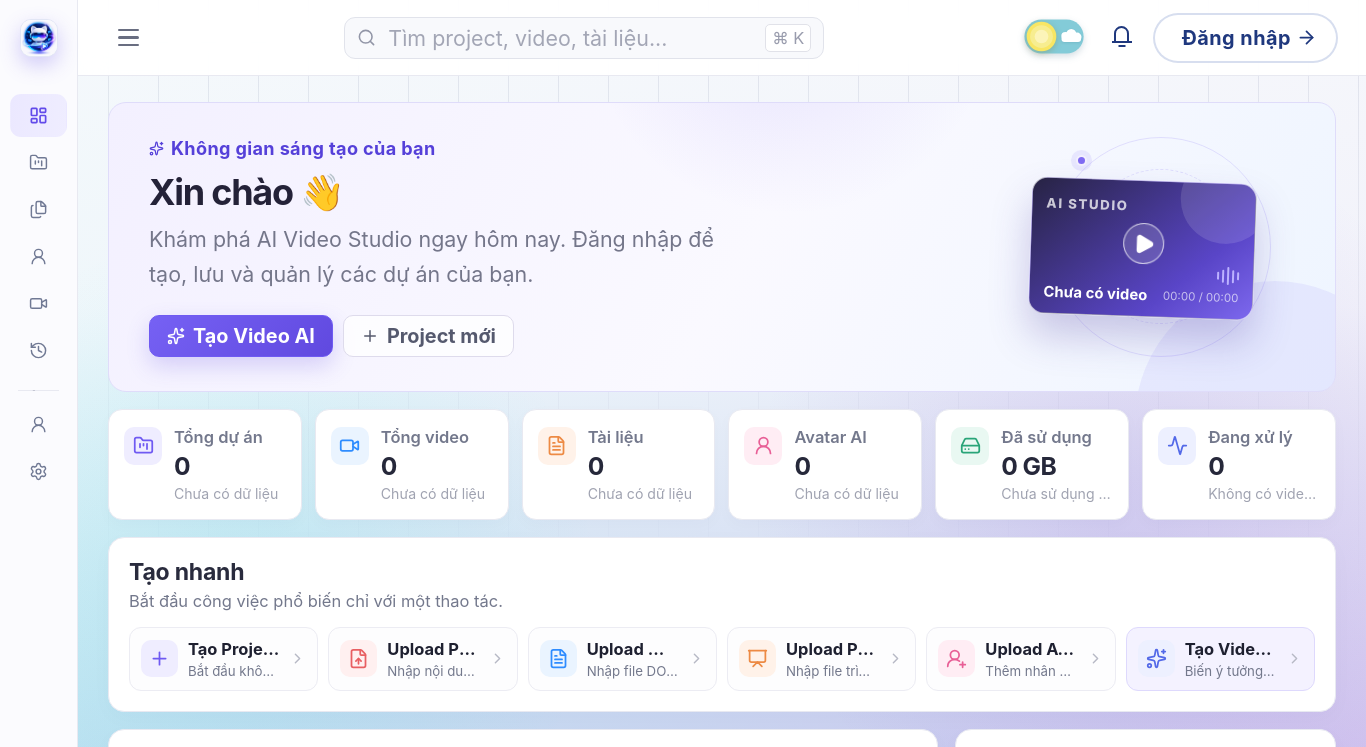
Scenario: switches the entire website to English and remembers the selection
Expected: the button named "dự án" is shown, [10,141,67,184]
Expected: the button named "avatar" is shown, [10,235,67,278]
Click the button named "cài đặt".
click(38, 472)  # box [10,450,67,493]
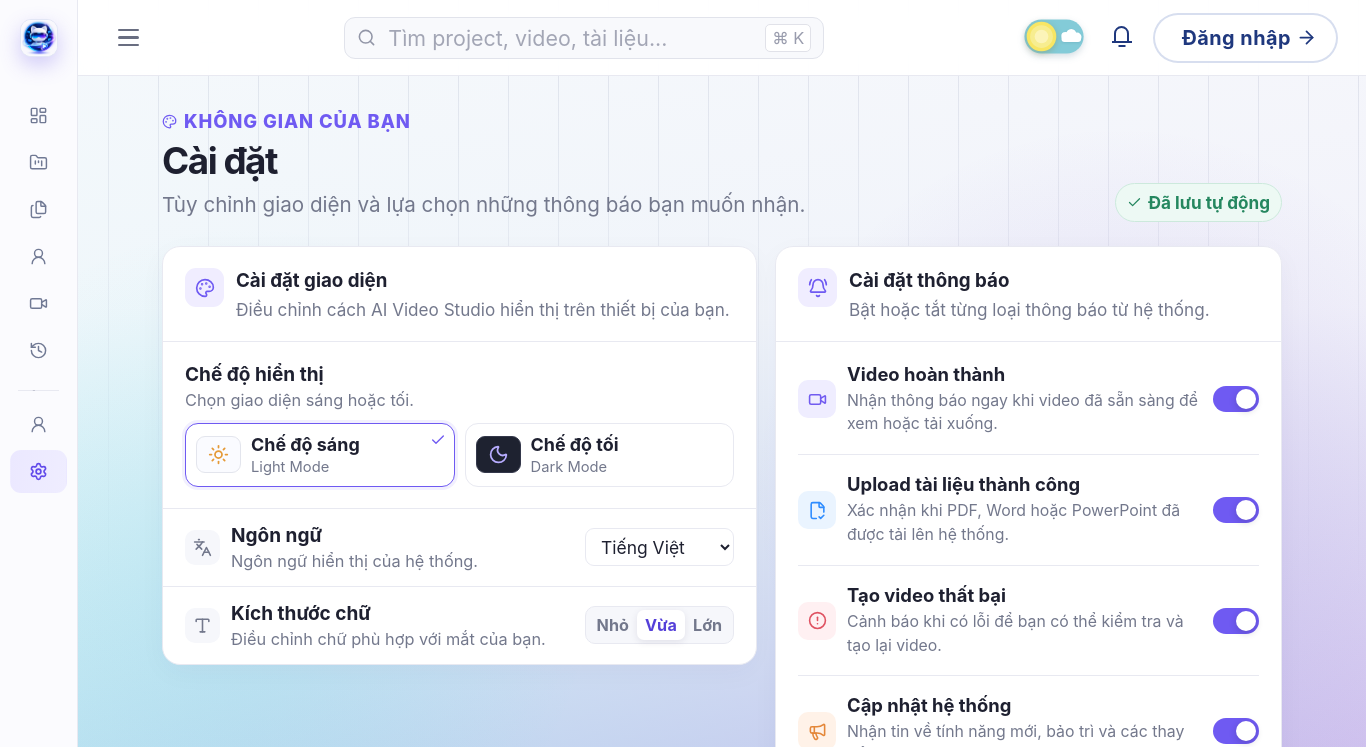
Select "English" in the dropdown named "Ngôn ngữ" at (660,547), box [585,528,734,566]
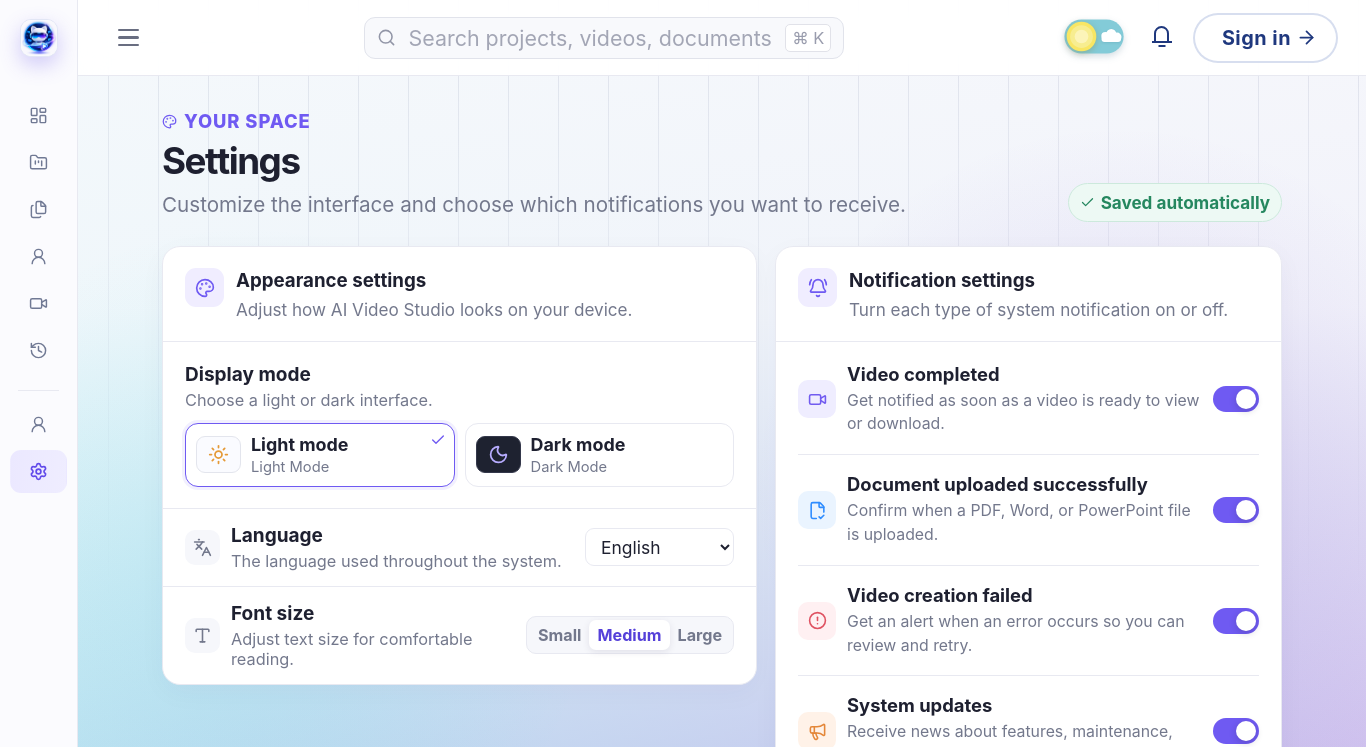
Result: the heading "Settings" is shown at [162,138,300,182]
Result: the heading "Appearance settings" is shown at [236,269,426,292]
Result: the heading "Notification settings" is shown at [849,269,1035,292]
Click the button named "dashboard".
click(38, 116)  # box [10,94,67,137]
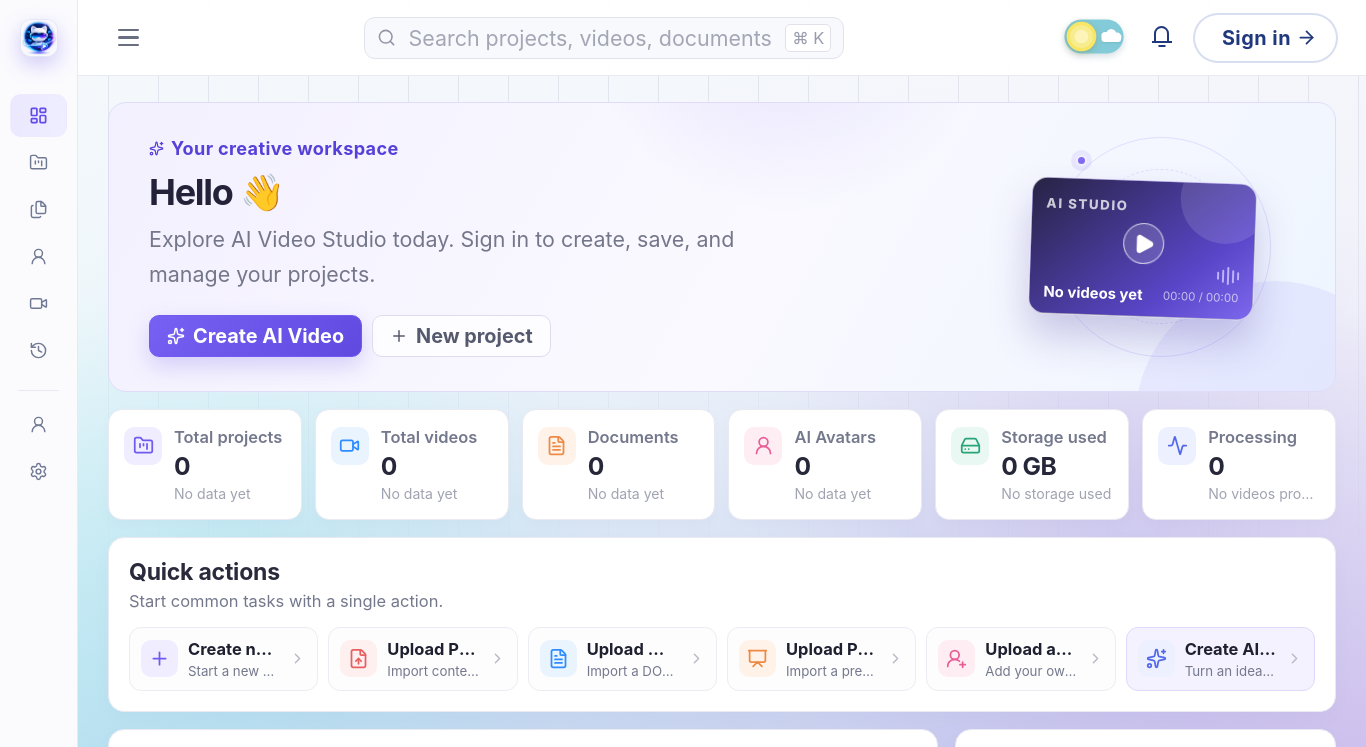
Result: the heading "Hello 👋" is shown at [149,170,284,214]
Result: the heading "Quick actions" is shown at [129,558,280,586]
